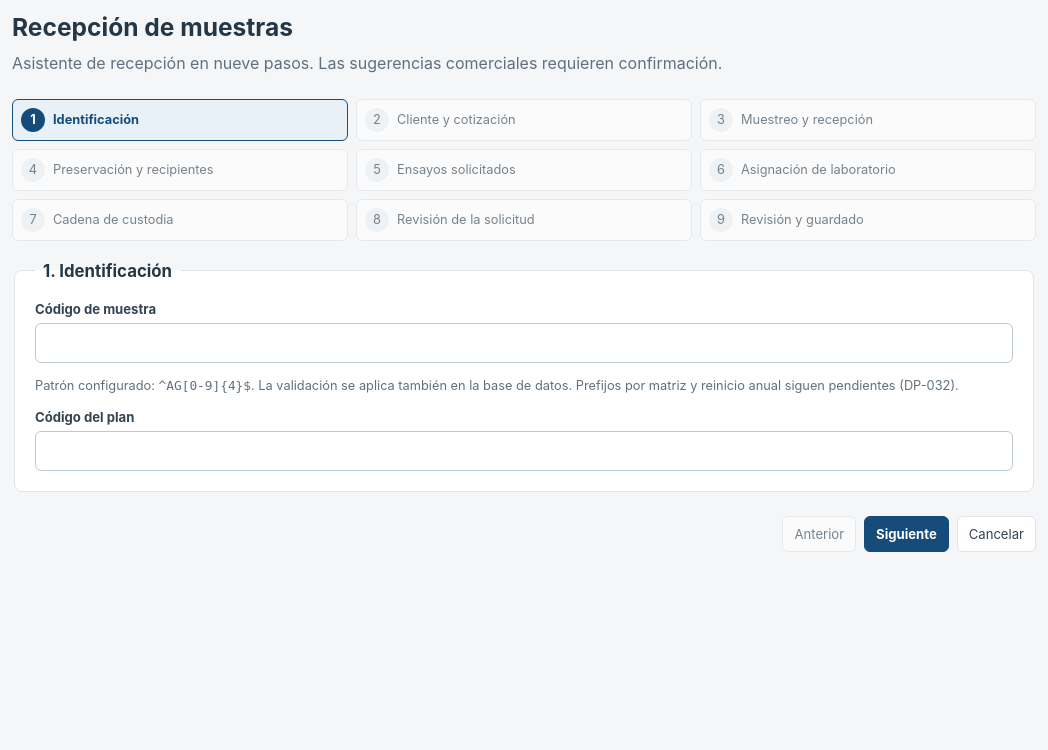
Test case: recepción y búsqueda de muestras › advierte fechas futuras sin corregirlas
The image size is (1048, 750).
Expected: the text "Asistente de recepción en nueve pasos. Las sugerencias comerciales requieren confirmación." is shown, [12,53,722,73]
Type "AG0346" into the field labelled "Código de muestra".
click(524, 343); type("AG0346")  # box [35,323,1013,363]
Click the button "Siguiente".
click(906, 534)  # box [864,516,949,552]
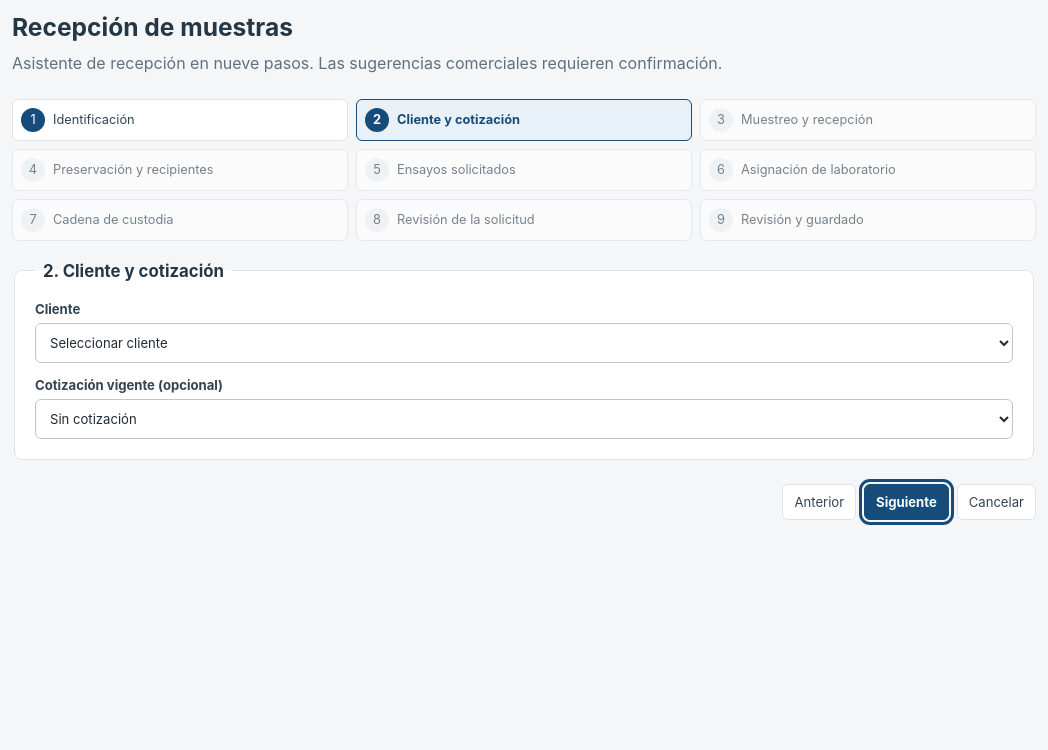
Select "Cliente de prueba · 900123456" in the dropdown labelled "Cliente" at (524, 343), box [35,323,1013,363]
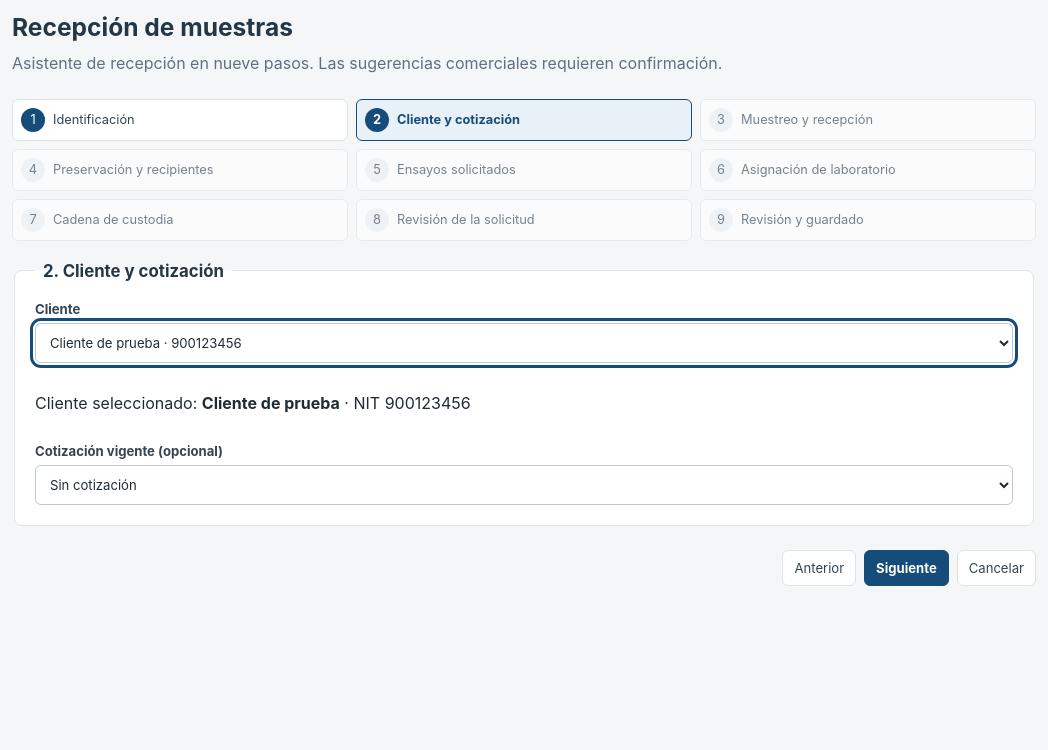
Click the button "Siguiente".
click(906, 568)  # box [864,550,949,586]
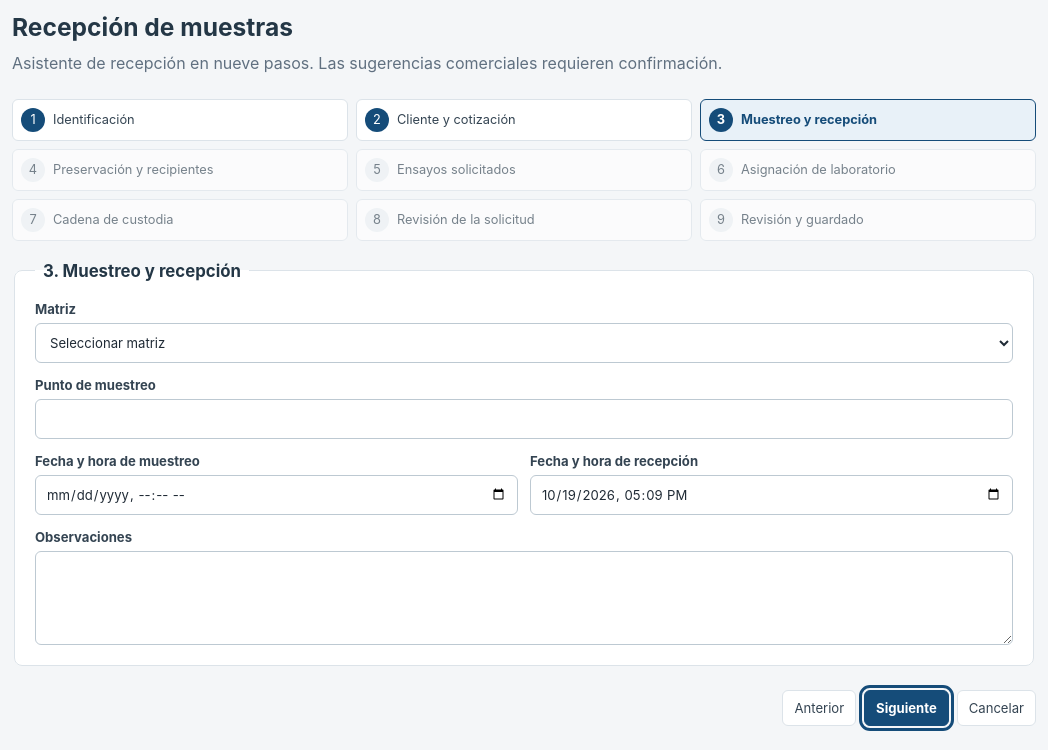
Select "AG · Agua" in the dropdown labelled "Matriz" at (524, 343), box [35,323,1013,363]
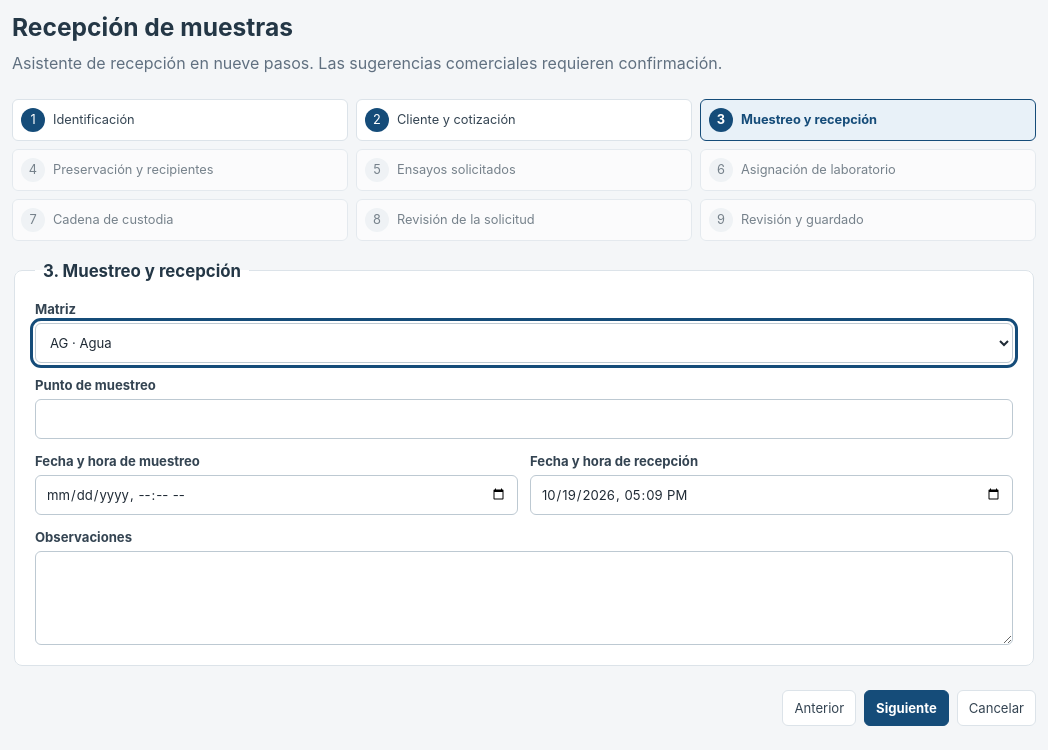
Replace the text in the field labelled "Fecha y hora de recepción" with "2026-10-16T11:00" at (772, 495), box [530,475,1013,515]
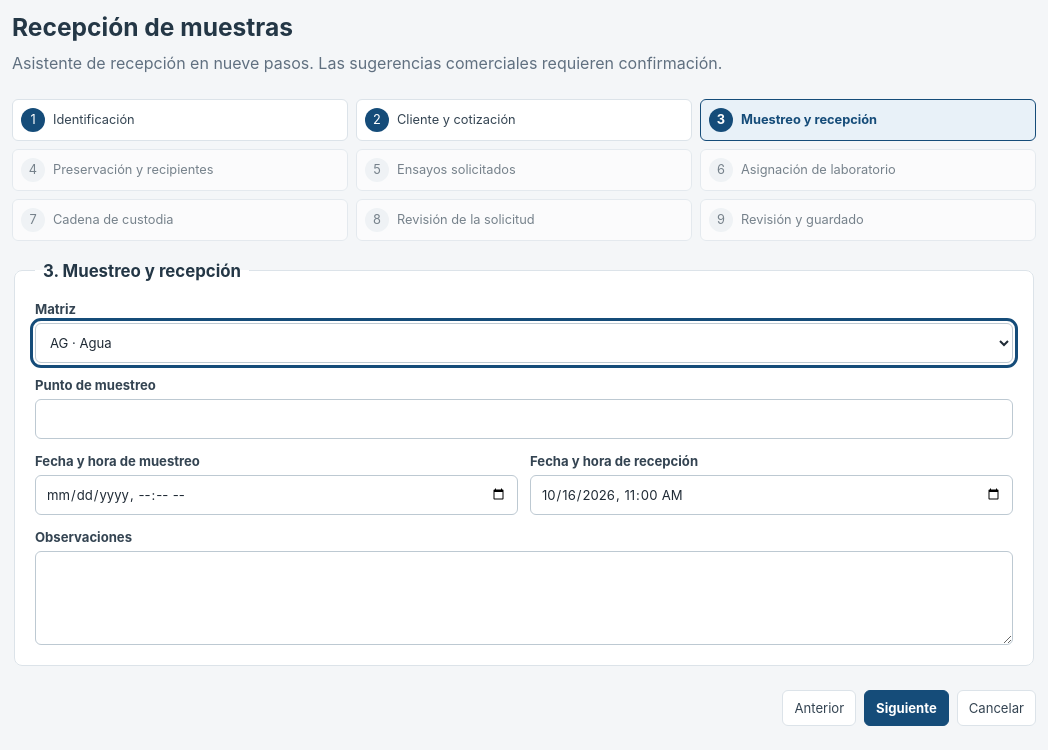
Type "2099-10-16T10:00" into the field labelled "Fecha y hora de muestreo".
click(276, 495); type("2099-10-16T10:00")  # box [35,475,518,515]
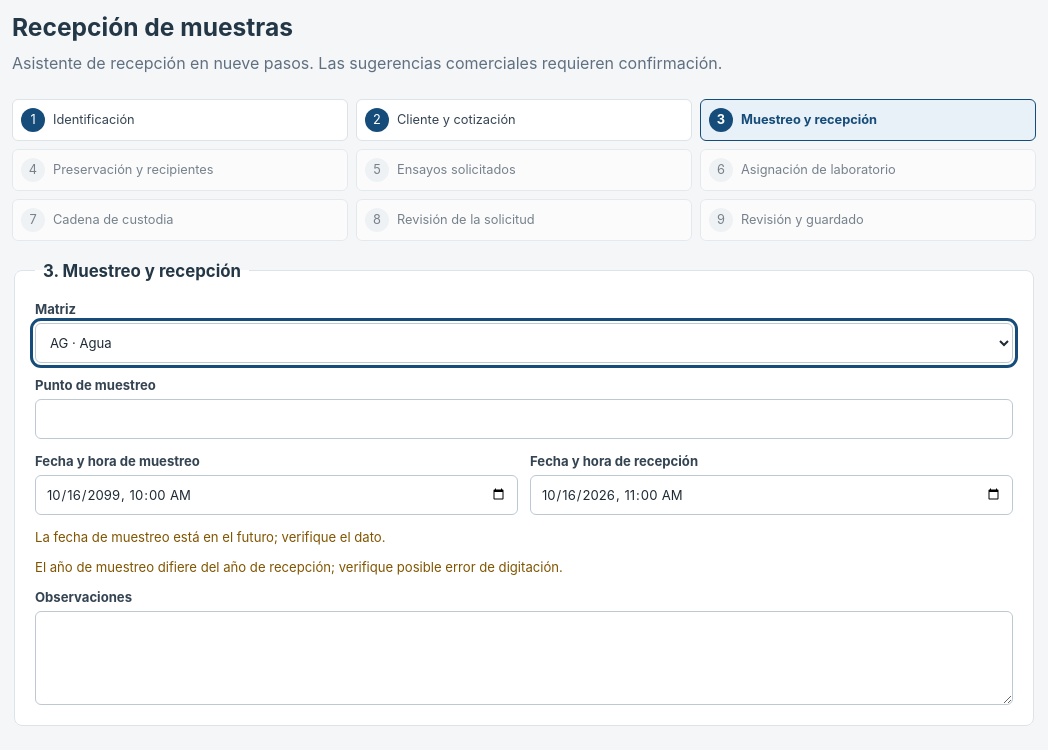
Expected: the text "La fecha de muestreo está en el futuro; verifique el dato." is shown, [35,529,386,545]
